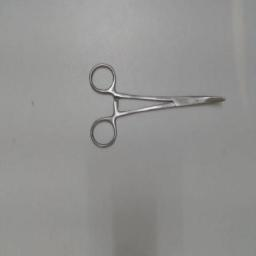Crile Artery Forceps: (88, 58, 230, 148)
